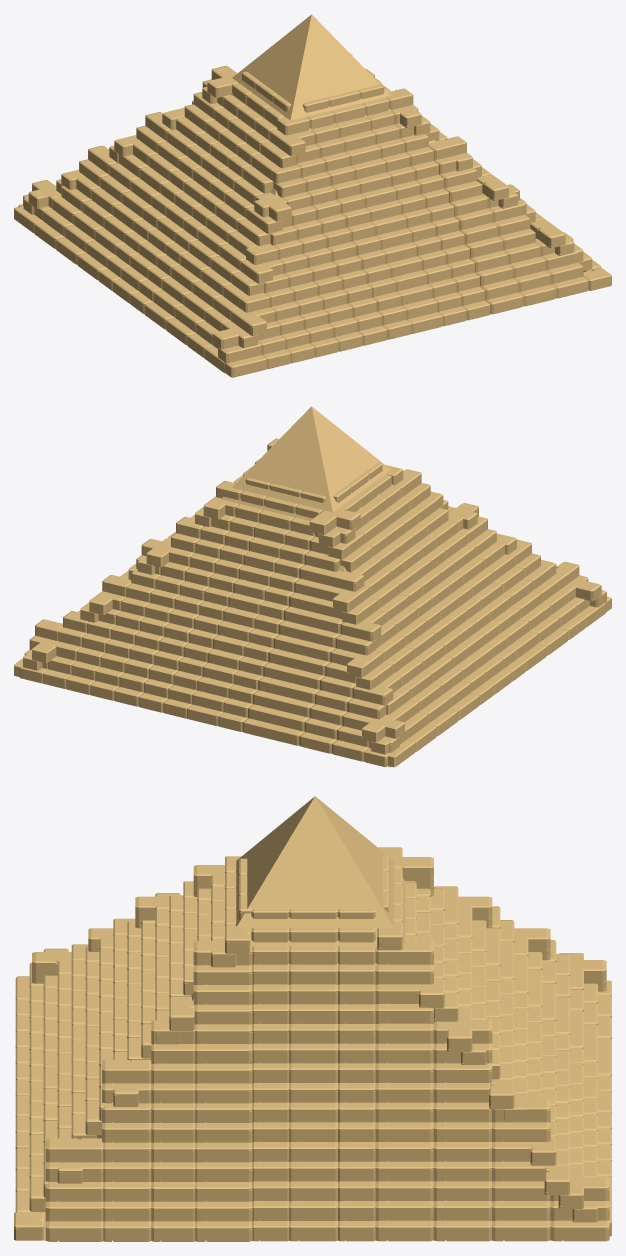
Rendered from Pyramids01.fbx.
3 renders of one model, top to bottom at view 1: azimuth 30°, elevation 25°; view 2: azimuth 150°, elevation 25°; view 3: azimuth 270°, elevation 25°, orthographic. The views are drawn at different scales.
Visible parts, largest first — view 1: I.pyramid; view 2: I.pyramid; view 3: I.pyramid.
Boxes of the visible parts, box(x1,y1,x2,y2) form: I.pyramid: box(14, 14, 611, 377); I.pyramid: box(14, 406, 611, 767); I.pyramid: box(14, 796, 611, 1241).
Size of the model in its own units: 7060 by 4180 by 7070.
